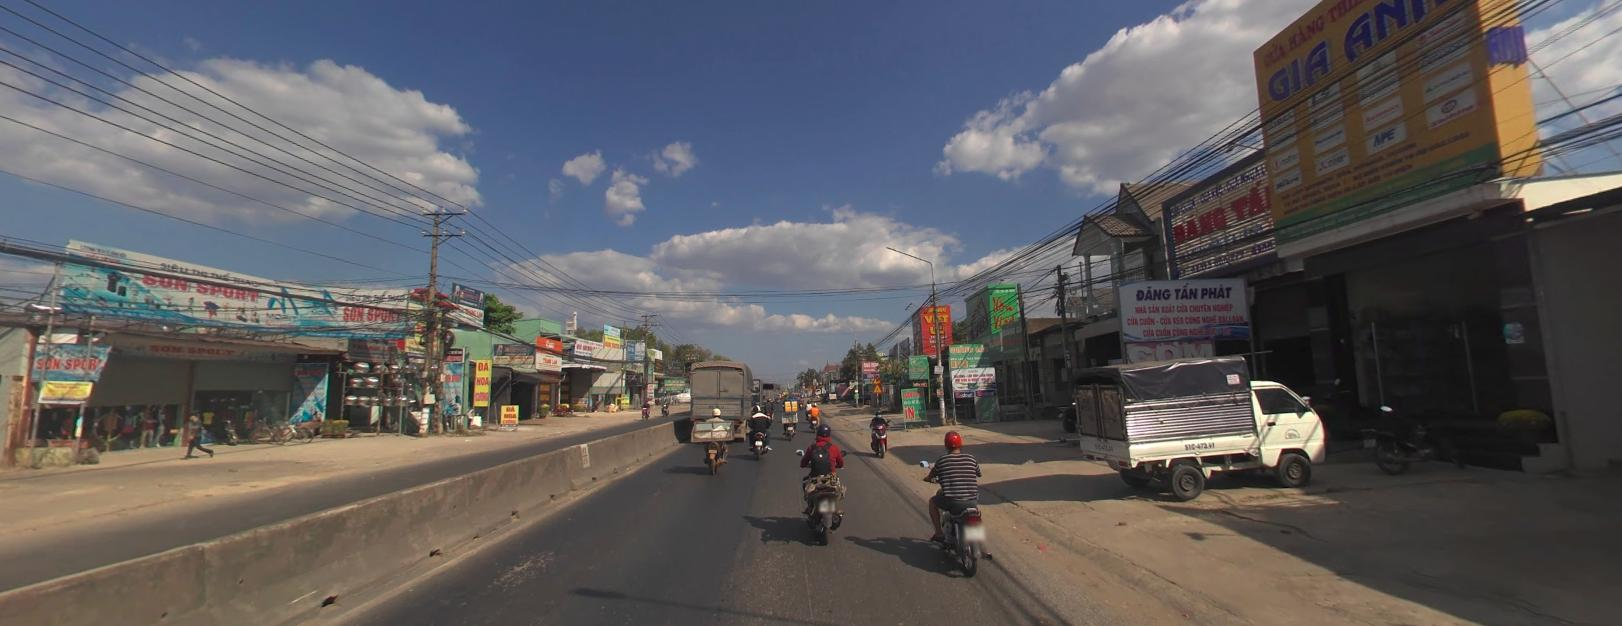Nguy hiem: (872, 383, 882, 391), (872, 374, 880, 382)
